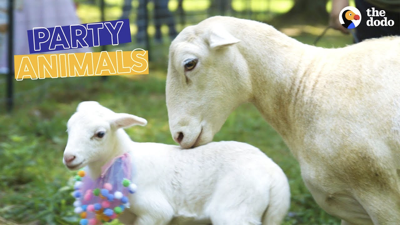koyun: (167, 25, 396, 157), (54, 100, 163, 225)
